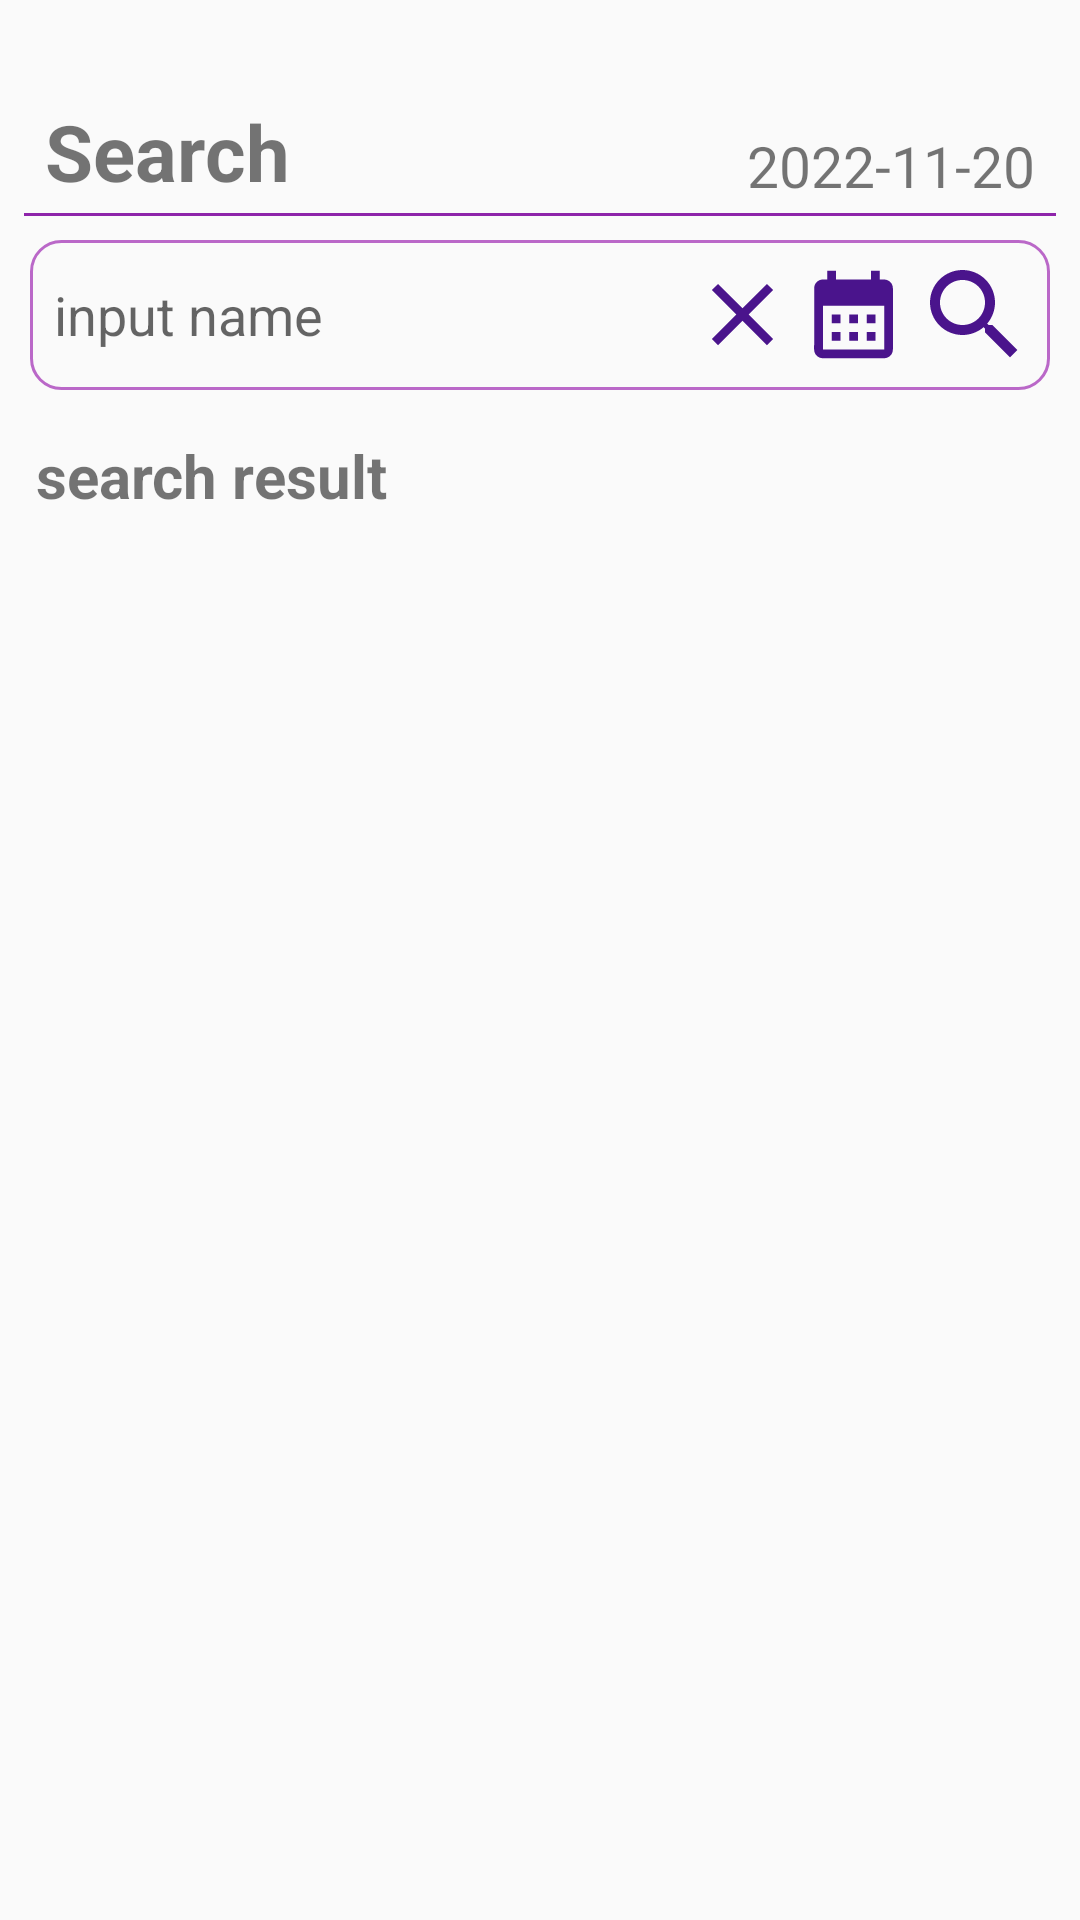

Icon bounding boxes for this 1080*1920 phone screenshot, format (x1=x1, y1=y1, x2=x2, y2=y2):
Calender: (x1=814, y1=270, x2=893, y2=359)
clear: (x1=712, y1=284, x2=773, y2=345)
